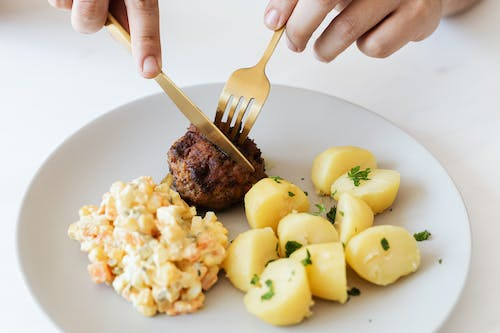knife: (103, 11, 256, 174)
